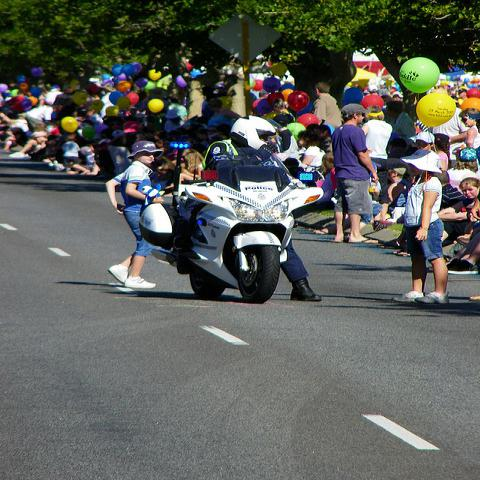motorcycle: (167, 148, 330, 310)
